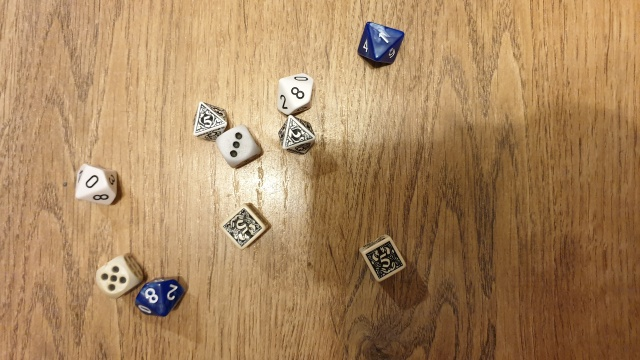d10-1: (354, 15, 411, 73)
d10-10: (70, 160, 125, 211)
d10-8: (131, 271, 191, 321), (271, 68, 321, 118)
d6-3: (214, 124, 266, 171)
d6-5: (92, 249, 145, 301)
d6p-5: (354, 231, 414, 286), (217, 199, 276, 252)
d8p-2: (275, 111, 321, 163)
d8p-5: (190, 102, 229, 143)
